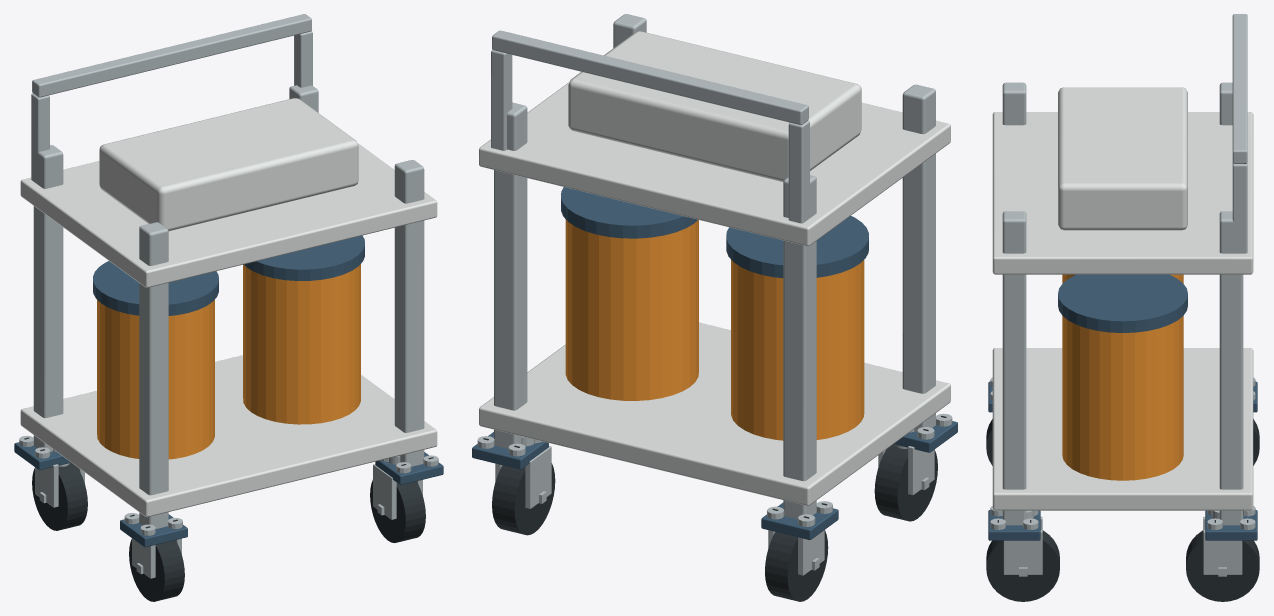
The model's file is container-inspection-and-customs-yard-container-inspec-0e629814__29321.glb.
The picture shows the model from 3 angles, left to right: view 1: azimuth 30°, elevation 25°; view 2: azimuth 150°, elevation 25°; view 3: azimuth 270°, elevation 25°; orthographic projection. The views are drawn at different scales.
Parts seen in each view (by area): view 1: container-inspection-and-customs-yard-spill-kit-cart; view 2: container-inspection-and-customs-yard-spill-kit-cart; view 3: container-inspection-and-customs-yard-spill-kit-cart.
Boxes of the visible parts, bbox=[...] form: container-inspection-and-customs-yard-spill-kit-cart: bbox=[14, 14, 443, 601]; container-inspection-and-customs-yard-spill-kit-cart: bbox=[472, 14, 957, 601]; container-inspection-and-customs-yard-spill-kit-cart: bbox=[986, 14, 1259, 601].
Size of the model in its own units: 0.82 by 1.16 by 0.63.
